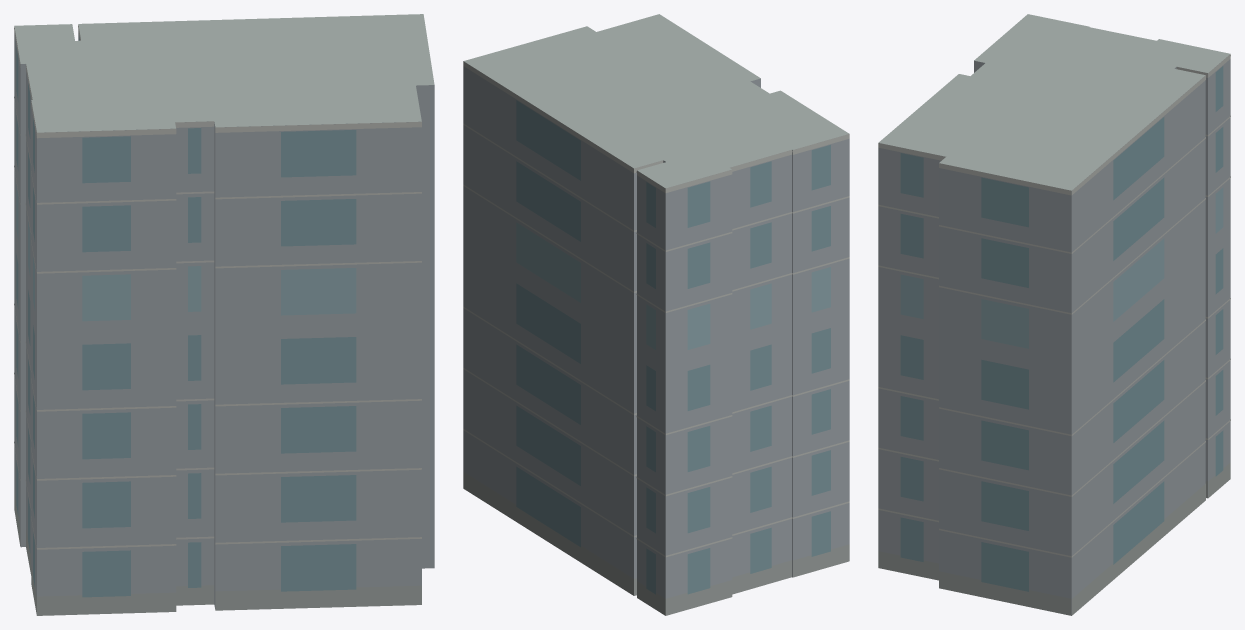
File: survey-upis-32740460.glb
3 renders of one model, left to right at view 1: azimuth 30°, elevation 25°; view 2: azimuth 150°, elevation 25°; view 3: azimuth 270°, elevation 25°, orthographic. The views are drawn at different scales.
Parts seen in each view (by area): view 1: survey-upis-32740460.tmp; view 2: survey-upis-32740460.tmp; view 3: survey-upis-32740460.tmp.
Boxes of the visible parts, x1,y1,x2,y2 form: survey-upis-32740460.tmp: [14, 14, 434, 615]; survey-upis-32740460.tmp: [463, 14, 849, 615]; survey-upis-32740460.tmp: [878, 14, 1230, 615].
Bounding box in the file's own units: 19.05 × 21.35 × 16.06.
